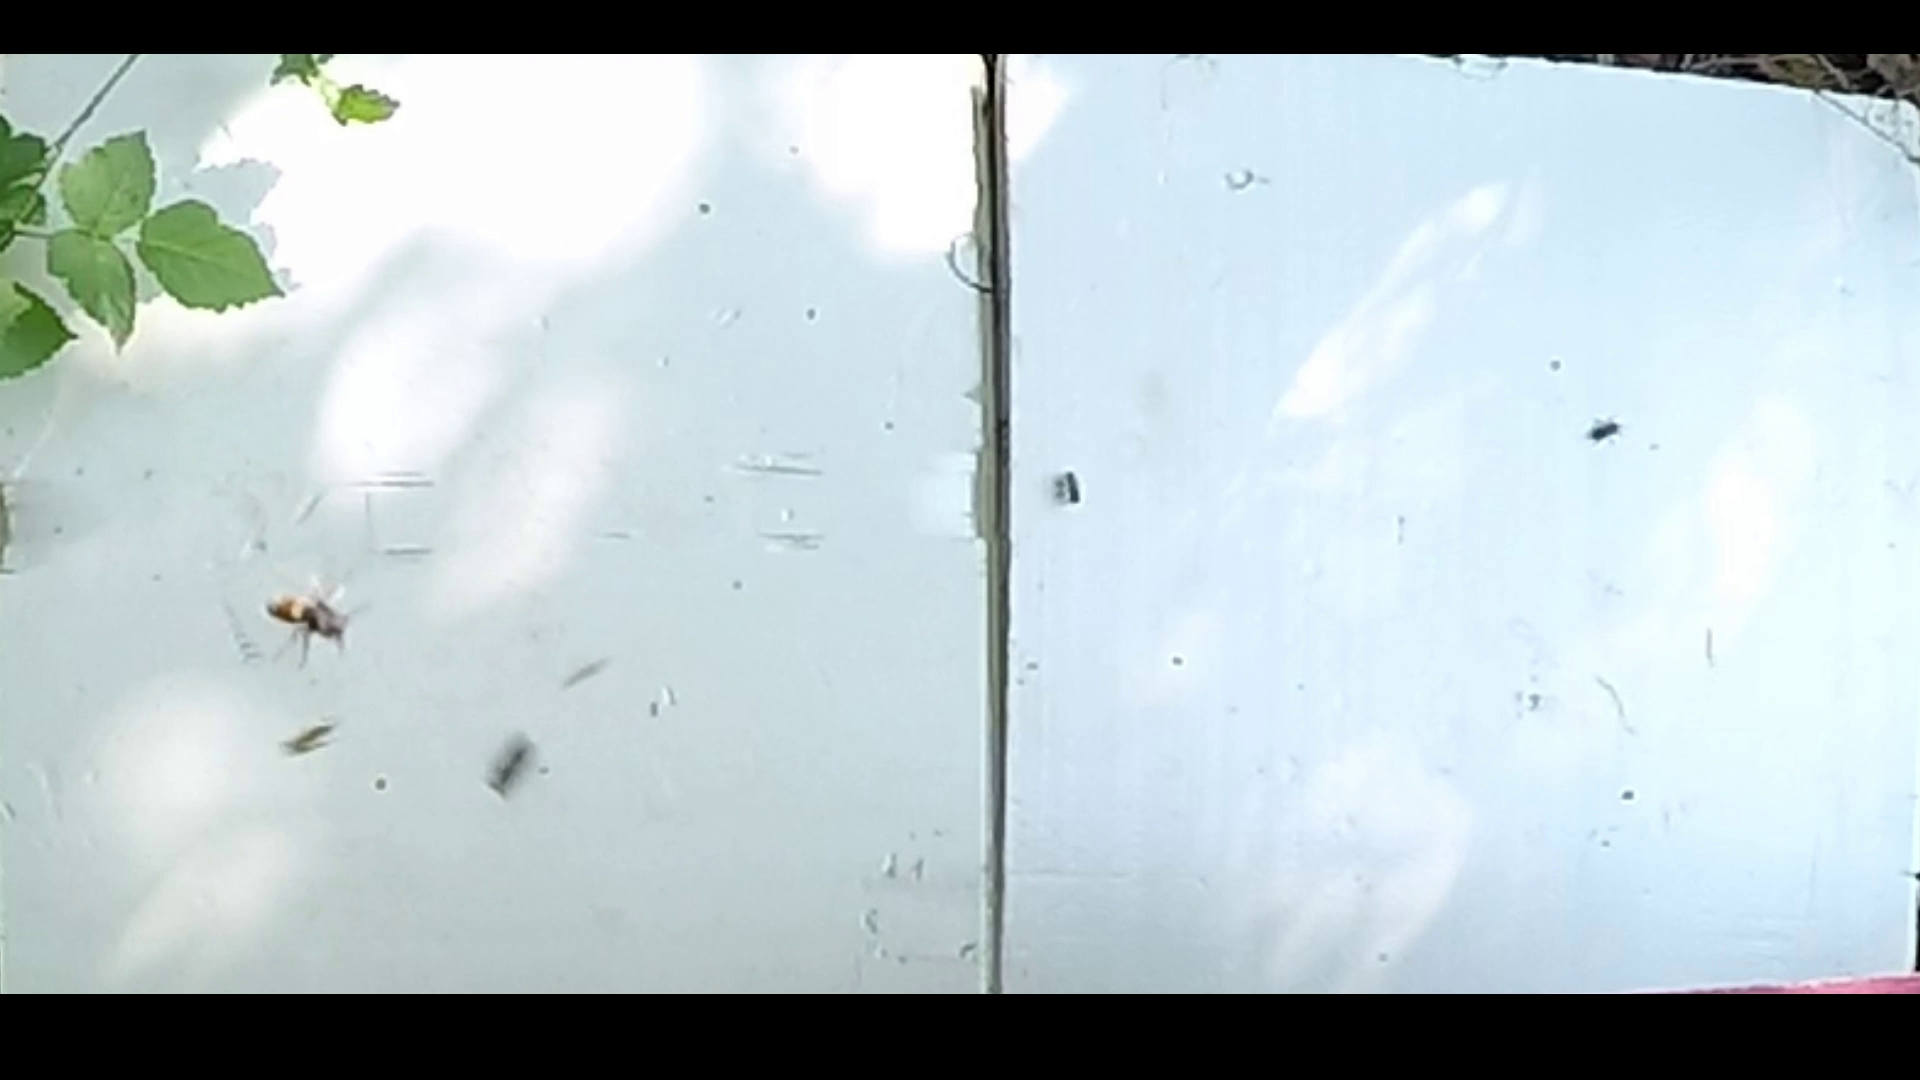Asian_hornets: (252, 555, 376, 676)
